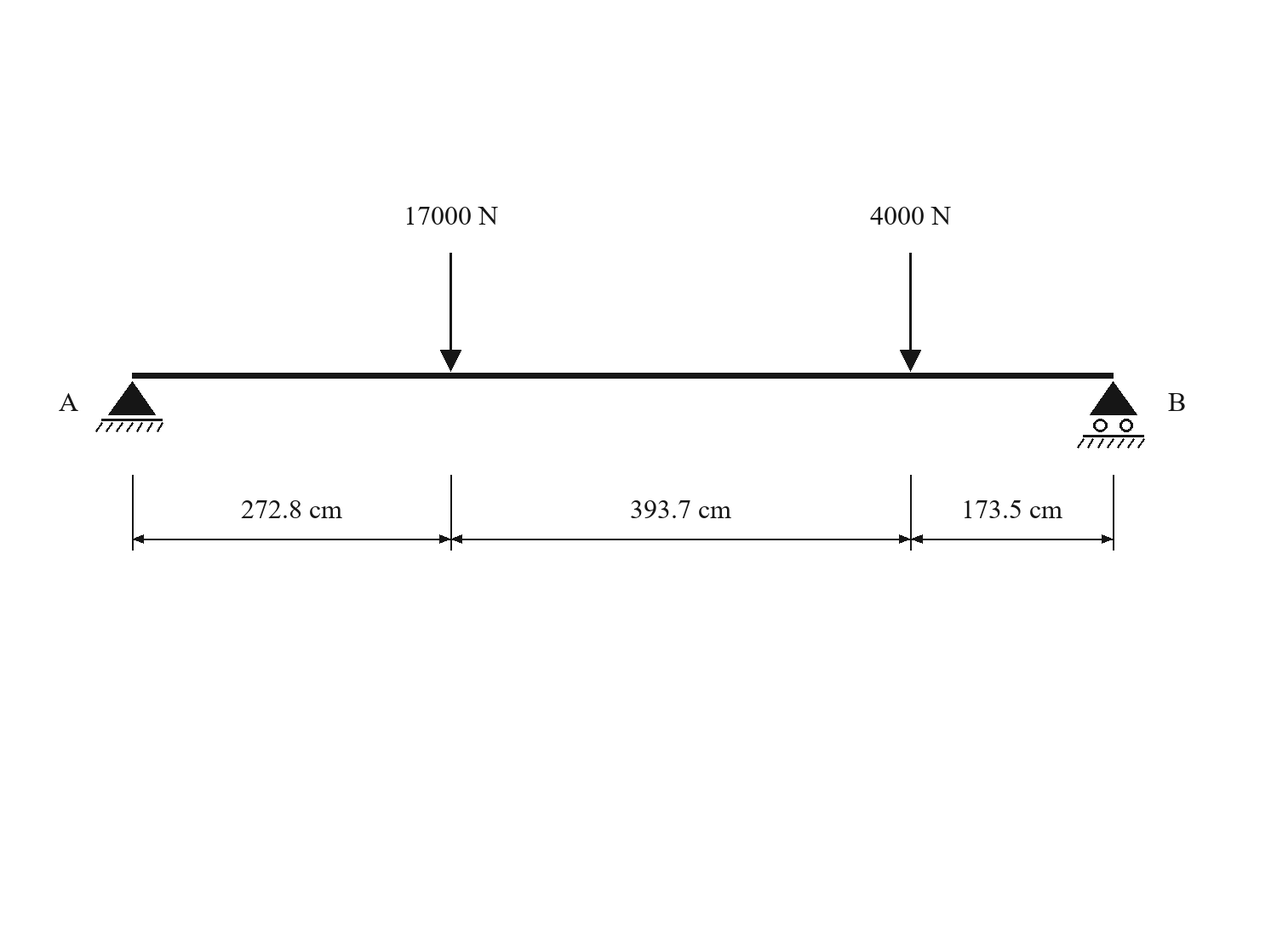pin_support: (95, 381, 163, 432)
point_load: (440, 253, 461, 372), (900, 253, 921, 372)
roller_support: (1077, 381, 1145, 448)
